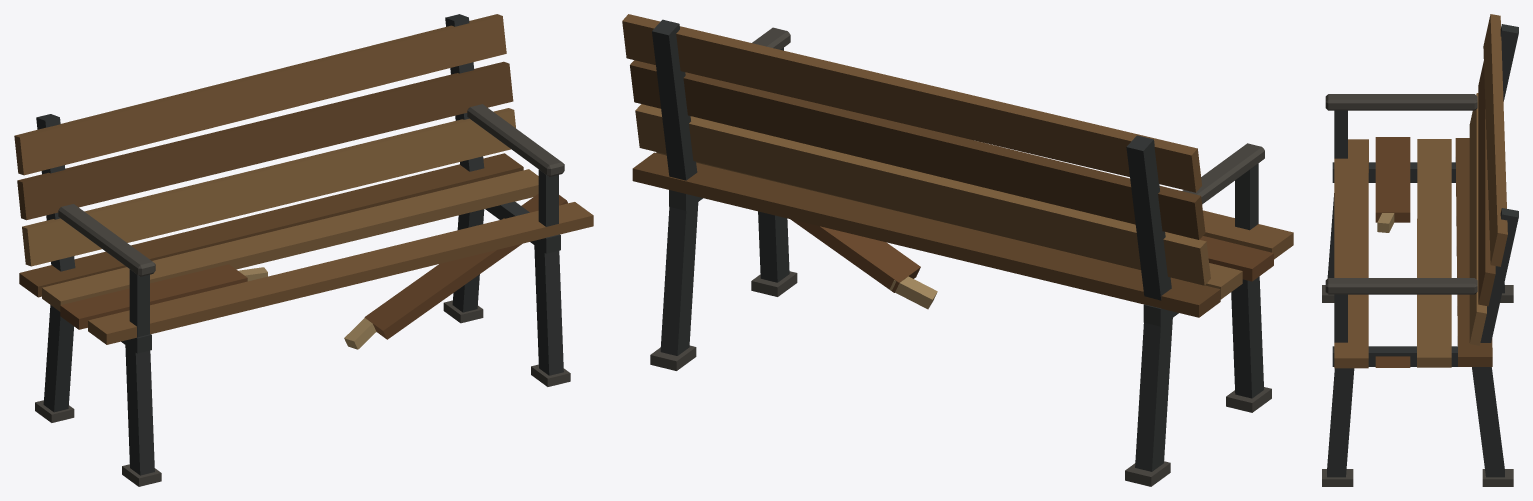
File: banco.glb
The picture shows the model from 3 angles, left to right: view 1: azimuth 30°, elevation 25°; view 2: azimuth 150°, elevation 25°; view 3: azimuth 270°, elevation 25°; orthographic projection. The views are drawn at different scales.
Visible parts, largest first — view 1: banco.001; view 2: banco.001; view 3: banco.001.
Boxes of the visible parts, box(x1,y1,x2,y2) form: banco.001: box(14, 14, 593, 486); banco.001: box(622, 14, 1293, 486); banco.001: box(1322, 14, 1518, 486).
Size of the model in its own units: 1.52 by 0.8681 by 0.5695.
